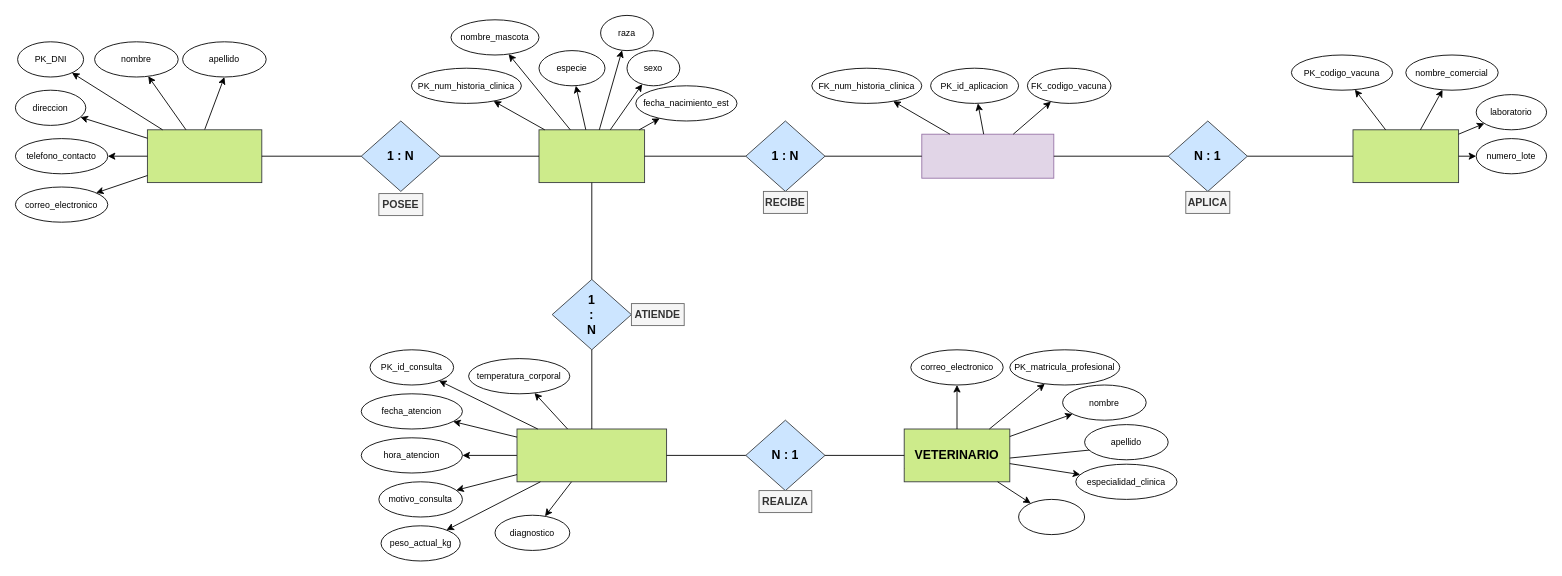
Some shapes in this 1562 by 576 pixel diagram are drawn without their labels. The centre of each missing label's shape, as x and y in pixels:
APLICACION_VACUNA_ MASCOTA: [987,155]
CLINICA_VETERINARIA: [591,455]
MASCOTA: [591,156]
telefono: [1051,517]
TUTOR: [204,156]
VACUNA: [1405,156]
